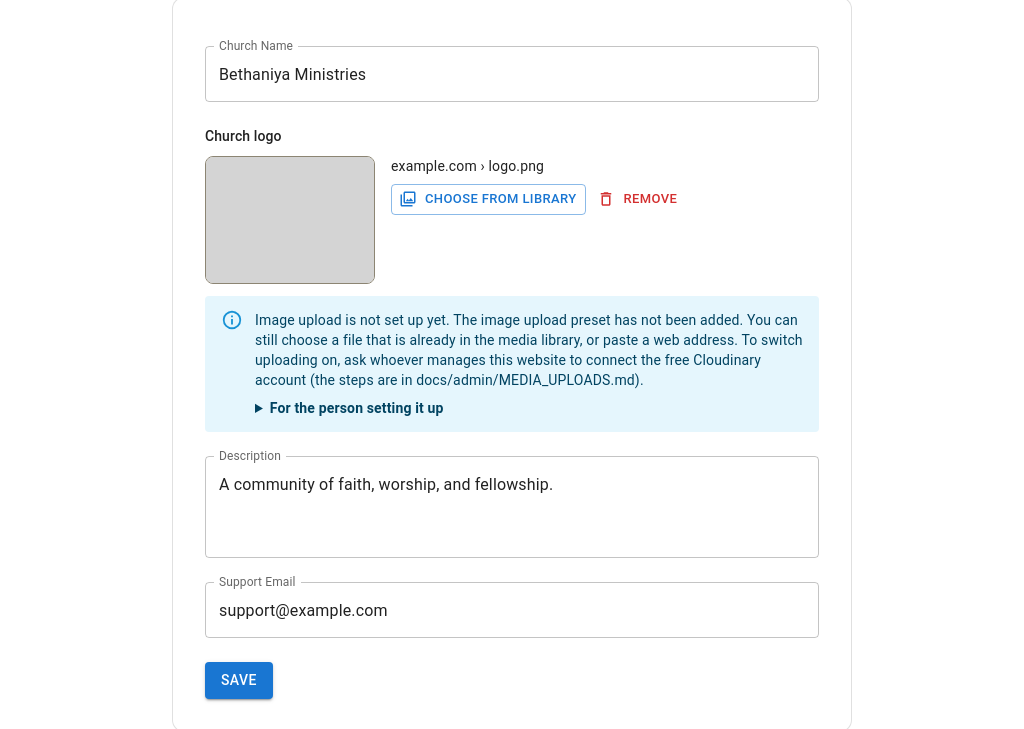
Scenario: SettingsPage › shows a form error when the save fails
(page scrolled)
Step 1. Click the button with test id "settings-save-button" → (239, 680), box [205, 662, 273, 698]
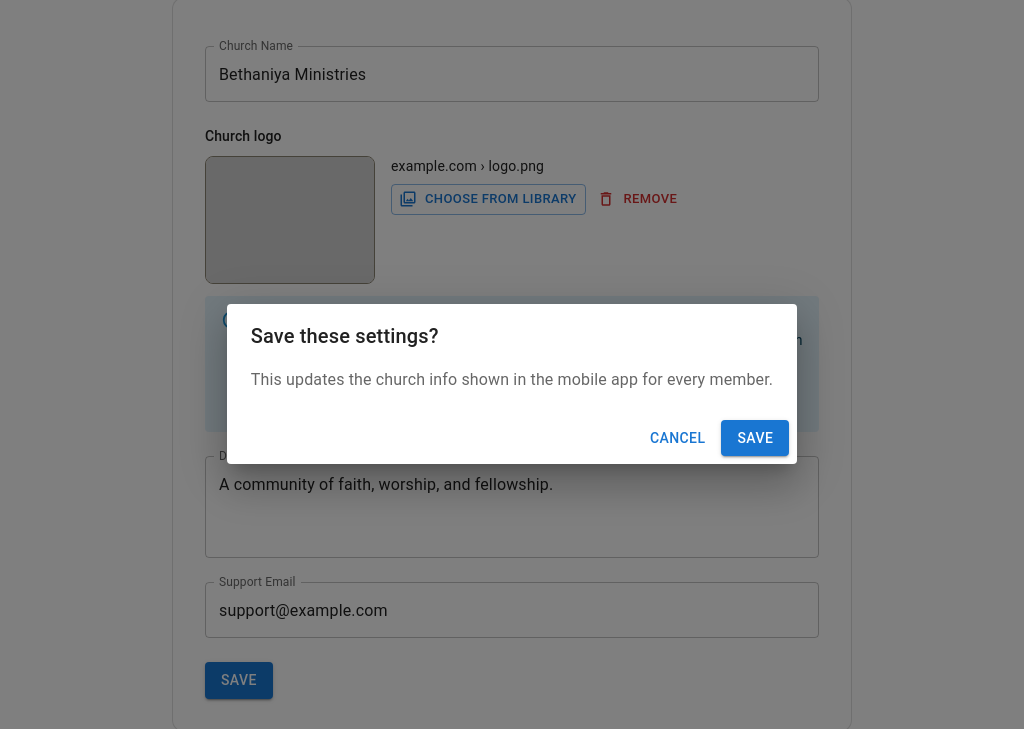
Step 2. Click the button with test id "confirm-save-settings-button" → (755, 438), box [721, 420, 789, 456]
(page scrolled)
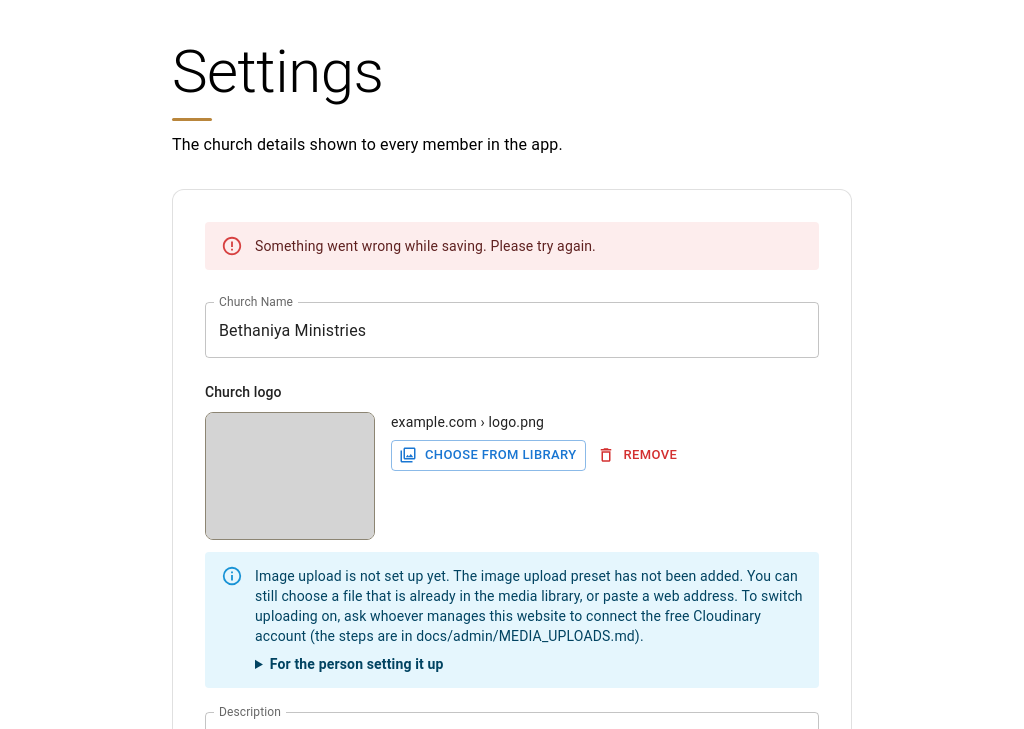
expect the message "Something went wrong while saving. Please try again." is shown: met, box [205, 222, 819, 270]
